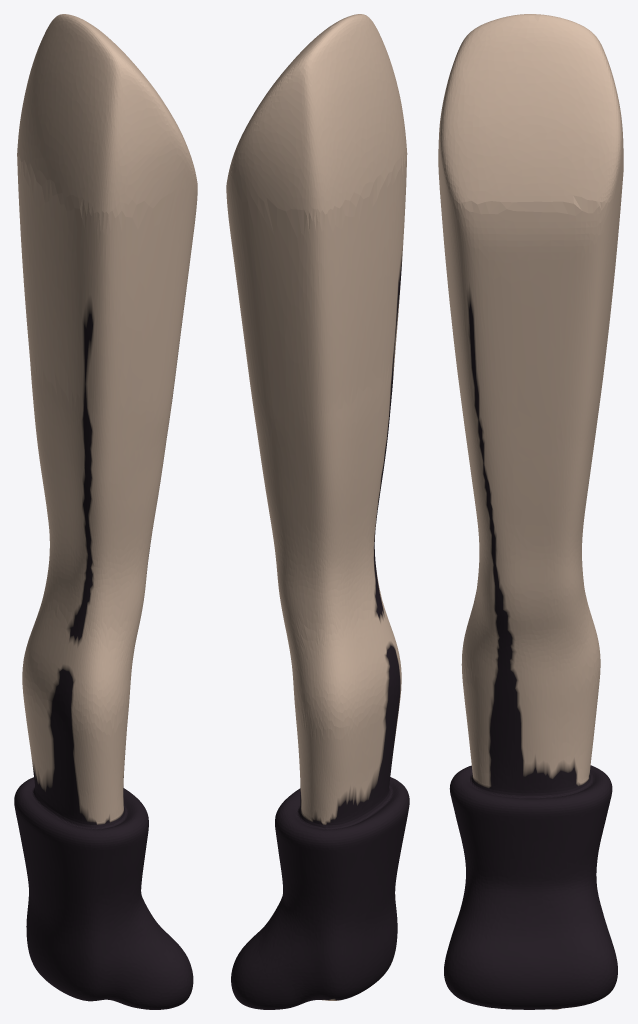
File: leg_L.glb
3 renders of one model, left to right at view 1: azimuth 30°, elevation 25°; view 2: azimuth 150°, elevation 25°; view 3: azimuth 270°, elevation 25°, orthographic.
Parts seen in each view (by area): view 1: geometry_0; view 2: geometry_0; view 3: geometry_0.
Part boxes in pixels (box(x1,y1,x2,y2)): geometry_0: box(14, 14, 197, 1009); geometry_0: box(226, 14, 409, 1009); geometry_0: box(438, 14, 623, 1009).
Size of the model in its own units: 0.1618 by 1.09 by 0.1912.
